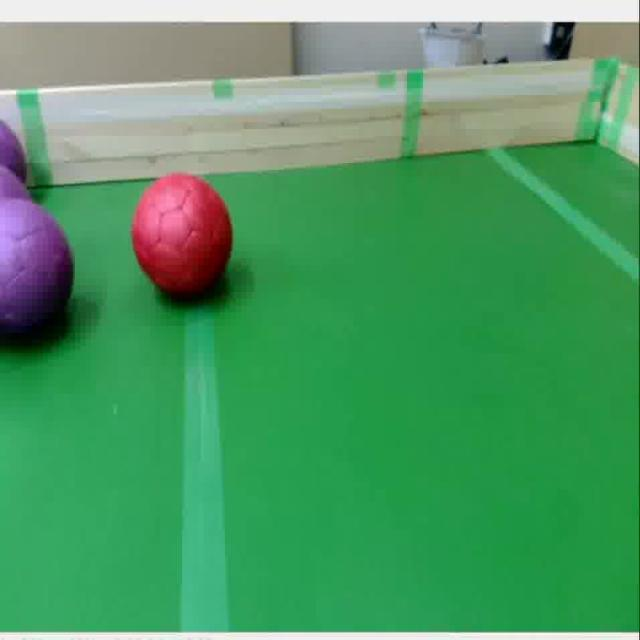purple_ball: (0, 196, 72, 344), (0, 122, 27, 198)
red_ball: (130, 172, 236, 304)
